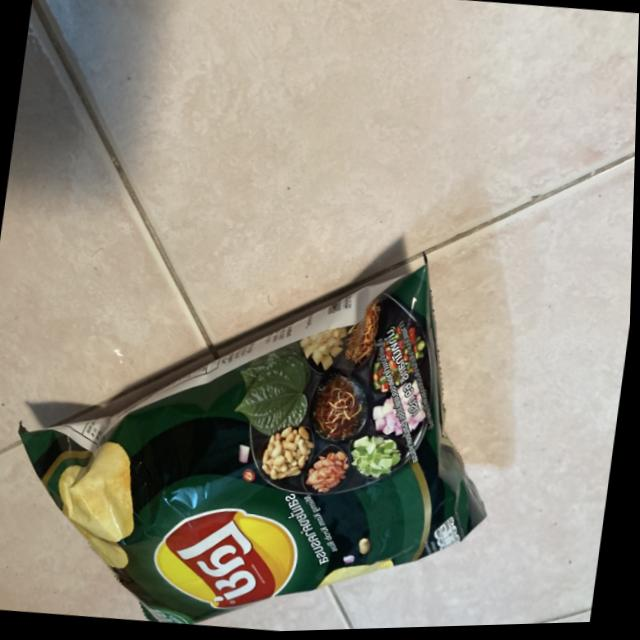Laygreen: (0, 205, 535, 640)
